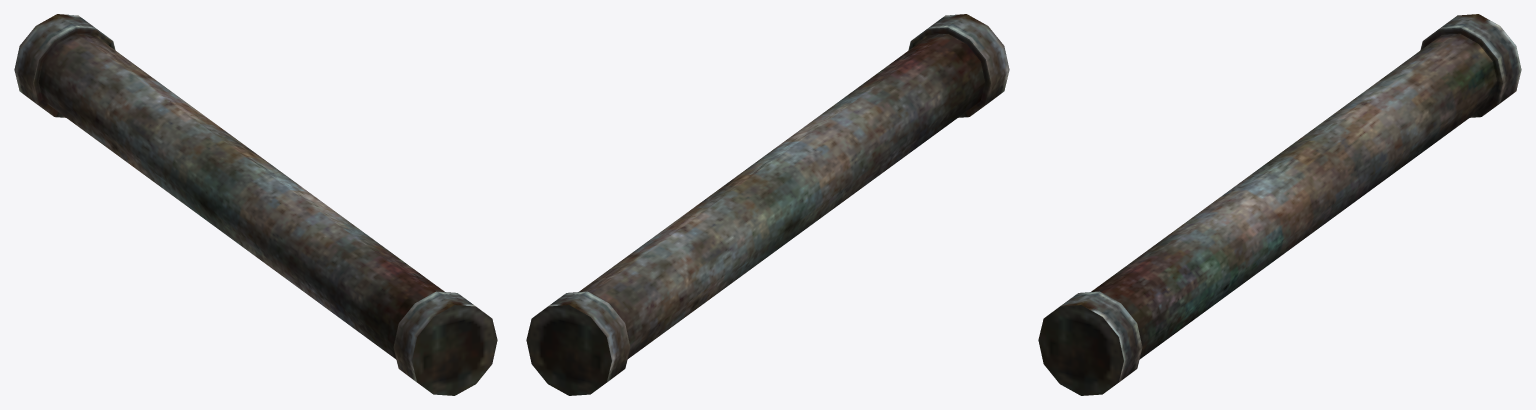
The model's file is pipe_medium2_pplant.dae.
3 renders of one model, left to right at view 1: azimuth 30°, elevation 25°; view 2: azimuth 150°, elevation 25°; view 3: azimuth 330°, elevation 25°, orthographic.
Parts seen in each view (by area): view 1: pipe_medium2_pplant__2_; view 2: pipe_medium2_pplant__2_; view 3: pipe_medium2_pplant__2_.
Part boxes in pixels (box(x1,y1,x2,y2)): pipe_medium2_pplant__2_: box(14, 14, 497, 395); pipe_medium2_pplant__2_: box(526, 14, 1009, 395); pipe_medium2_pplant__2_: box(1038, 14, 1521, 395).
Bounding box in the file's own units: 0.2485 × 0.2524 × 2.
